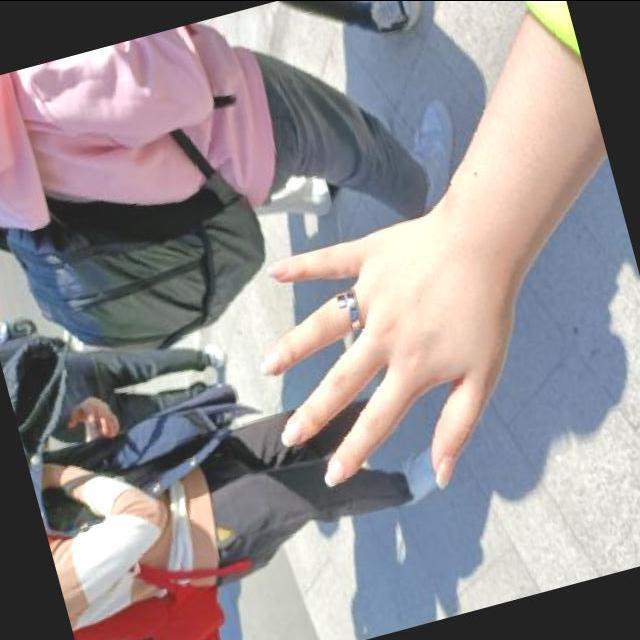hand: (214, 168, 568, 542)
